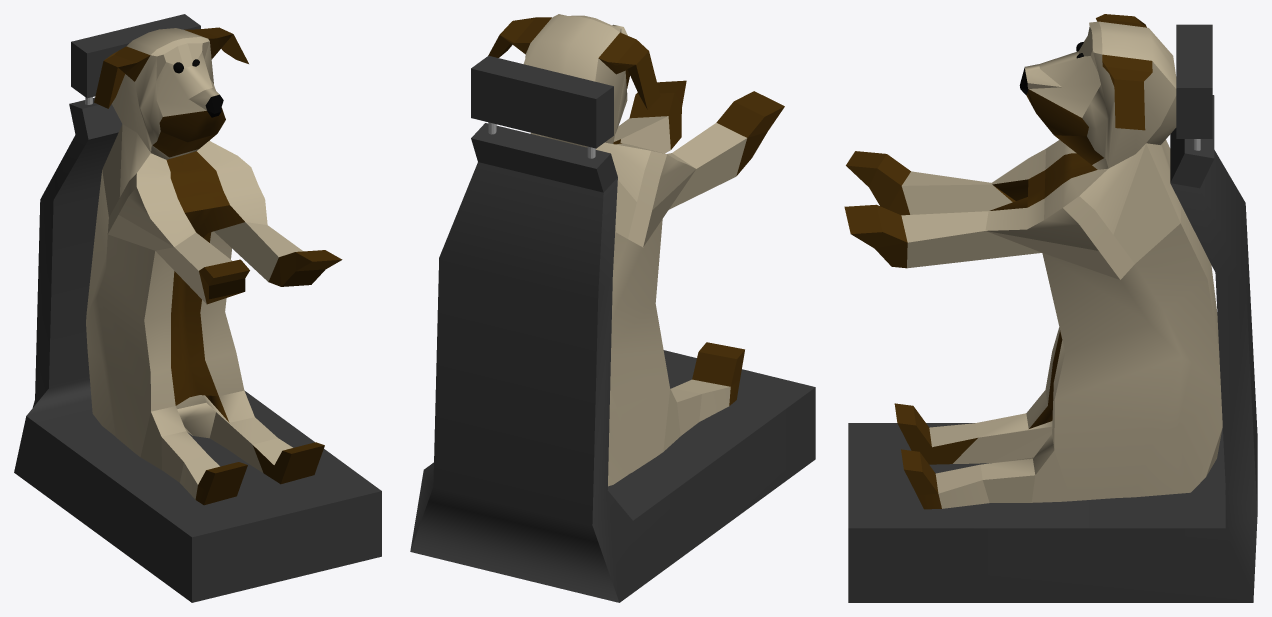
Rendered from turret_dog.fbx.
3 views of the same model, side by side, from view 1: azimuth 30°, elevation 25°; view 2: azimuth 150°, elevation 25°; view 3: azimuth 270°, elevation 25° (orthographic). The views are drawn at different scales.
Visible parts, largest first — view 1: side1; view 2: side1; view 3: side1.
Part boxes in pixels (box(x1,y1,x2,y2)): side1: box(14, 14, 381, 602); side1: box(410, 14, 815, 602); side1: box(844, 14, 1257, 602).
Size of the model in its own units: 1.67 by 3.84 by 2.76.
